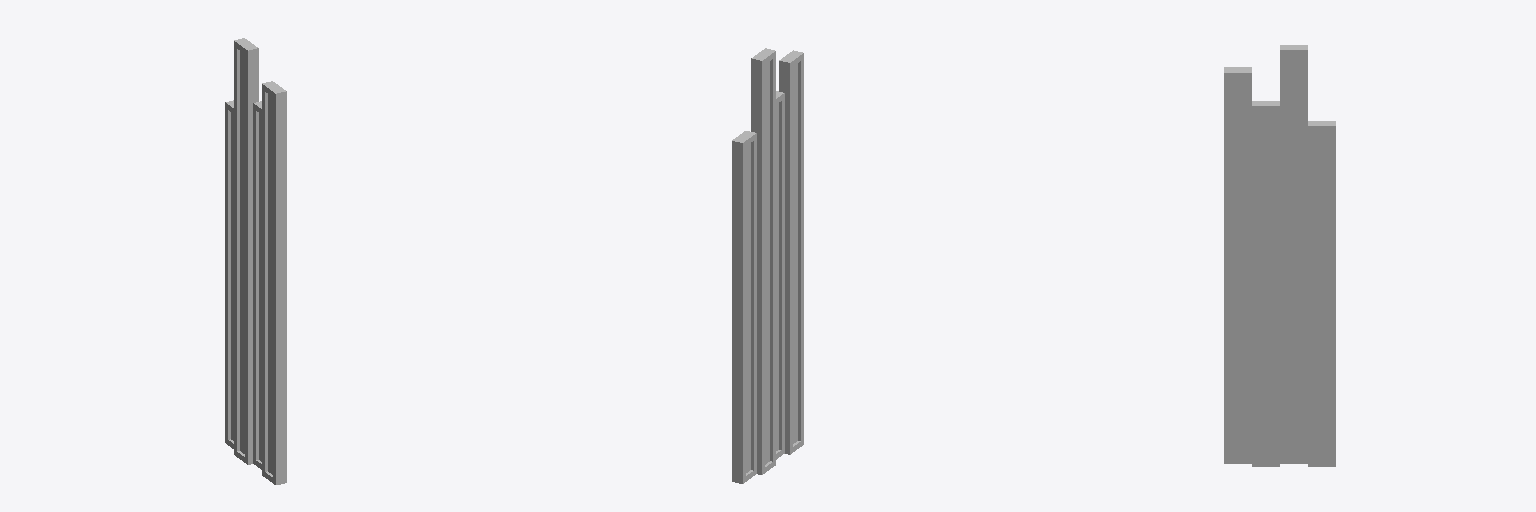
The model's file is wall3.obj.
The picture shows the model from 3 angles: view 1: azimuth 30°, elevation 25°; view 2: azimuth 150°, elevation 25°; view 3: azimuth 270°, elevation 25°; orthographic projection.
Parts seen in each view (by area): view 1: object 1; view 2: object 1; view 3: object 1.
Part boxes in pixels (x1,y1,x2,y2): object 1: (225,38,286,484); object 1: (732,48,803,483); object 1: (1224,45,1335,466).
Size of the model in its own units: 0.6 by 14.7 by 3.6.